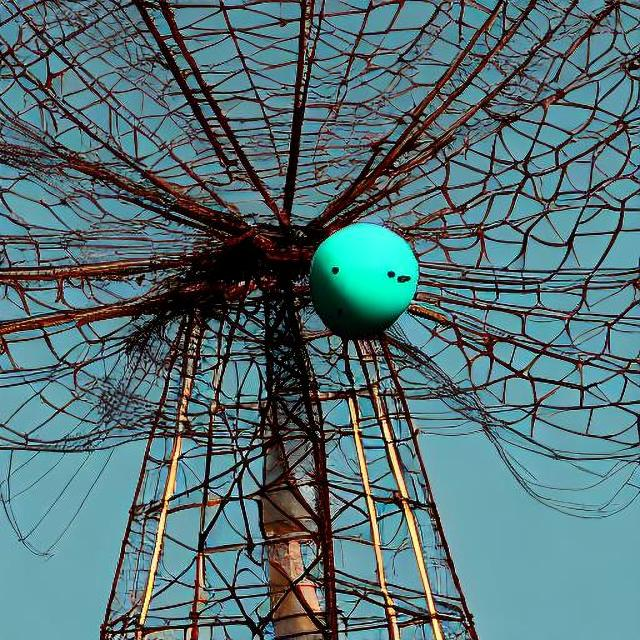balloon: (300, 225, 430, 351)
